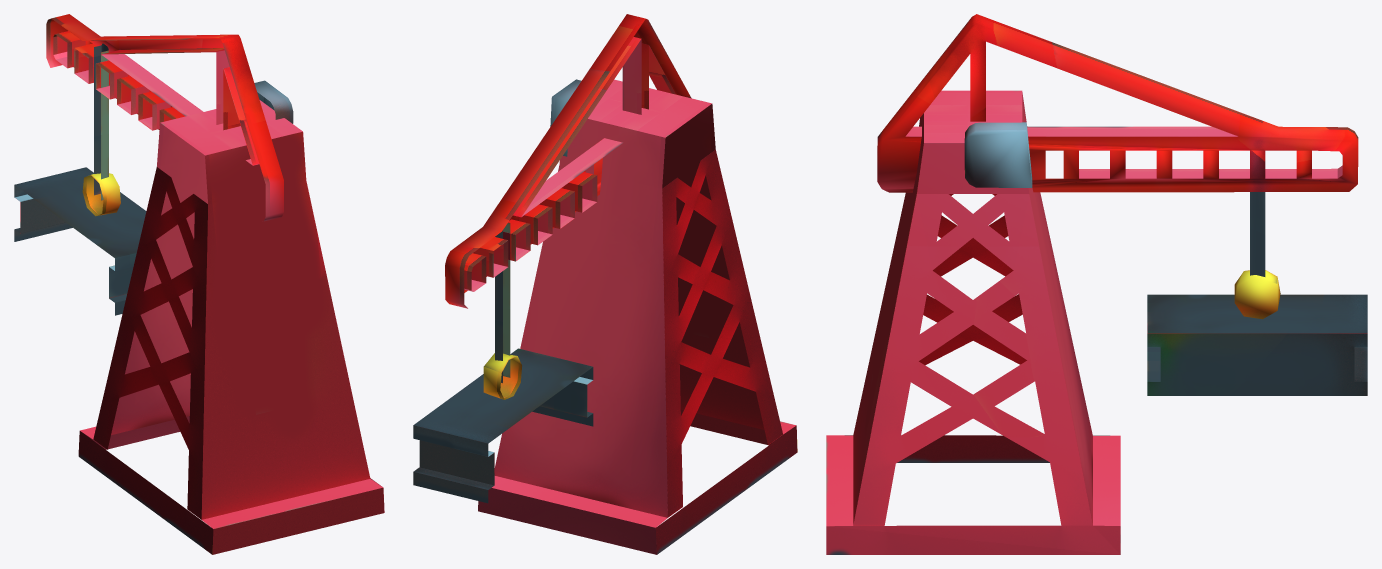
Rendered from Emoji_building_construction.glb.
3 views of the same model, side by side, from view 1: azimuth 30°, elevation 25°; view 2: azimuth 150°, elevation 25°; view 3: azimuth 270°, elevation 25° (orthographic). The views are drawn at different scales.
Visible parts, largest first — view 1: Emoji; view 2: Emoji; view 3: Emoji.
Part boxes in pixels (box(x1,y1,x2,y2)): Emoji: box(14, 14, 384, 554); Emoji: box(413, 14, 797, 554); Emoji: box(826, 14, 1367, 554).
Bounding box in the file's own units: 0.272 × 0.6752 × 0.6766.
Materials: 1 (1 with a texture image).
